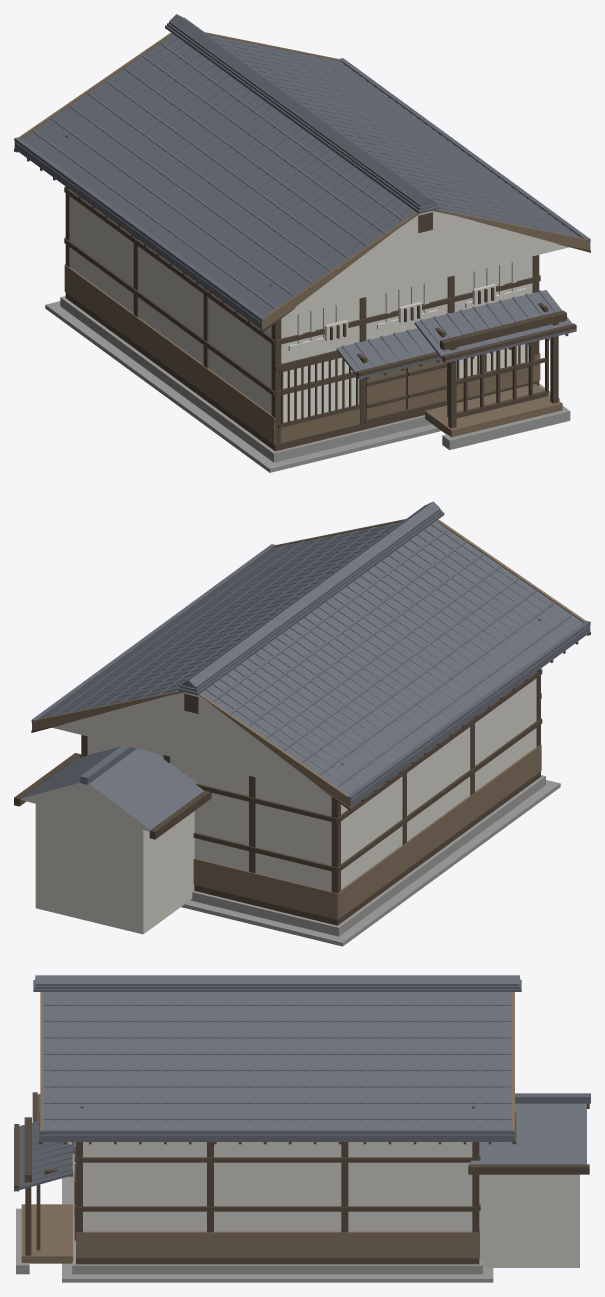
The model's file is family_standard_machiya_06.glb.
3 views of the same model, one above another, from view 1: azimuth 30°, elevation 25°; view 2: azimuth 150°, elevation 25°; view 3: azimuth 270°, elevation 25° (orthographic). The views are drawn at different scales.
Parts seen in each view (by area): view 1: family_standard_machiya_06; view 2: family_standard_machiya_06; view 3: family_standard_machiya_06.
Boxes of the visible parts, x1,y1,x2,y2 form: family_standard_machiya_06: (14,14,590,472); family_standard_machiya_06: (14,501,590,946); family_standard_machiya_06: (14,975,590,1282).
Size of the model in its own units: 7.96 by 5.76 by 12.59.
